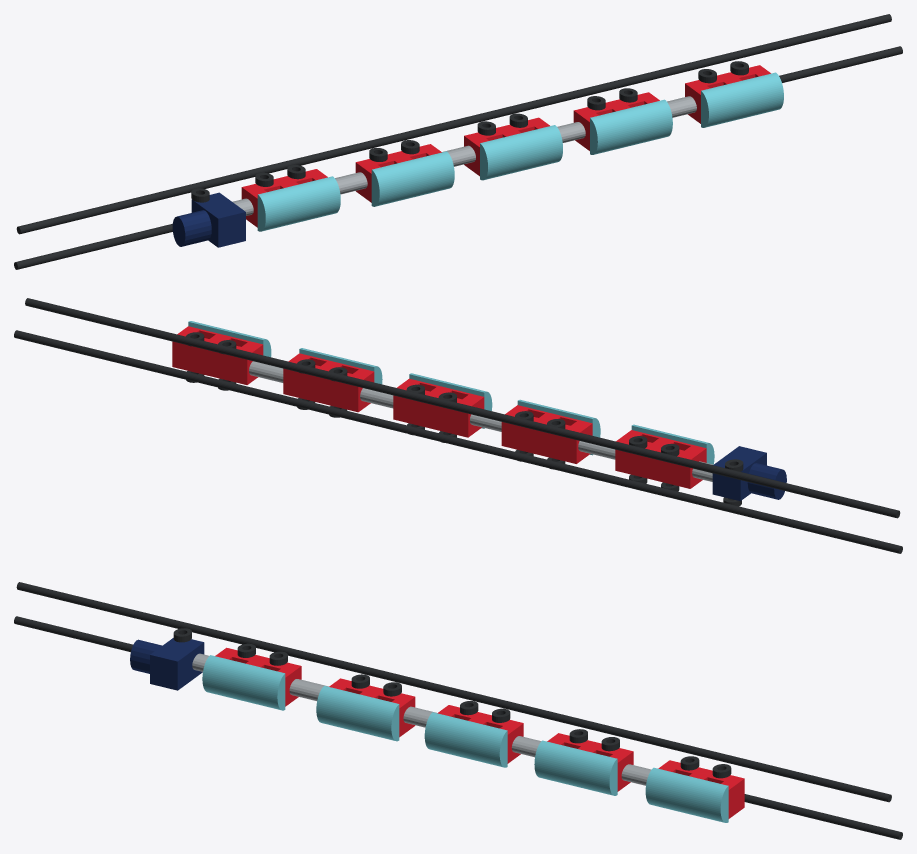
Rendered from tinker.obj.
3 renders of one model, top to bottom at view 1: azimuth 30°, elevation 25°; view 2: azimuth 150°, elevation 25°; view 3: azimuth 330°, elevation 25°, orthographic.
Parts seen in each view (by area): view 1: group_0_7720667, group_0_2829873, group_0_15277357, group_0_1650274, group_0_10988977; view 2: group_0_2829873, group_0_15277357, group_0_7720667, group_0_1650274, group_0_10988977; view 3: group_0_7720667, group_0_2829873, group_0_15277357, group_0_1650274, group_0_10988977.
Part boxes in pixels (<box>): group_0_7720667: <box>257,72,783,231</box>; group_0_2829873: <box>14,14,902,269</box>; group_0_15277357: <box>241,65,770,227</box>; group_0_1650274: <box>172,192,245,247</box>; group_0_10988977: <box>232,96,696,215</box>; group_0_2829873: <box>14,298,902,553</box>; group_0_15277357: <box>172,326,706,488</box>; group_0_7720667: <box>188,321,714,464</box>; group_0_1650274: <box>712,446,786,501</box>; group_0_10988977: <box>249,361,713,481</box>; group_0_7720667: <box>202,655,728,822</box>; group_0_2829873: <box>14,582,902,839</box>; group_0_15277357: <box>215,647,744,818</box>; group_0_1650274: <box>130,638,204,690</box>; group_0_10988977: <box>192,653,651,785</box>.
Bounding box in the file's own units: 637 × 33 × 45.
